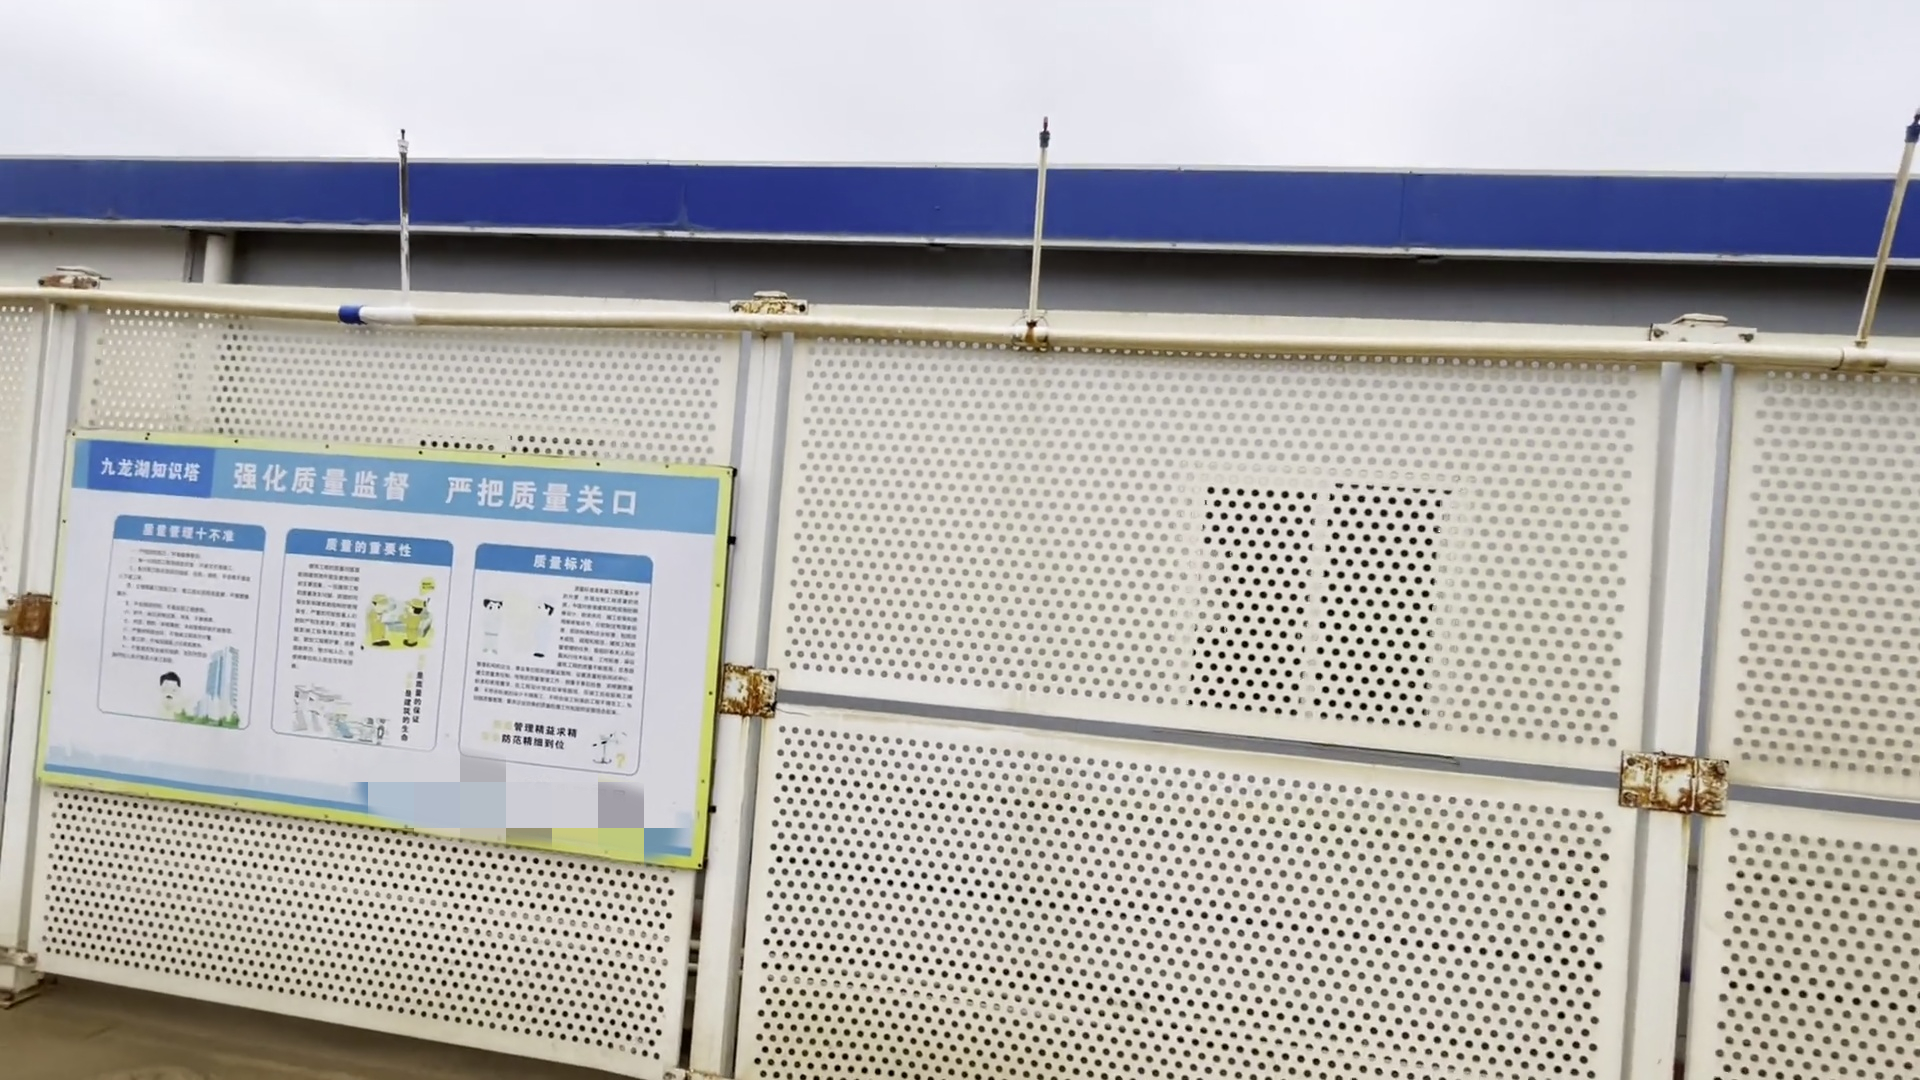slogan: (45, 411, 735, 891)
